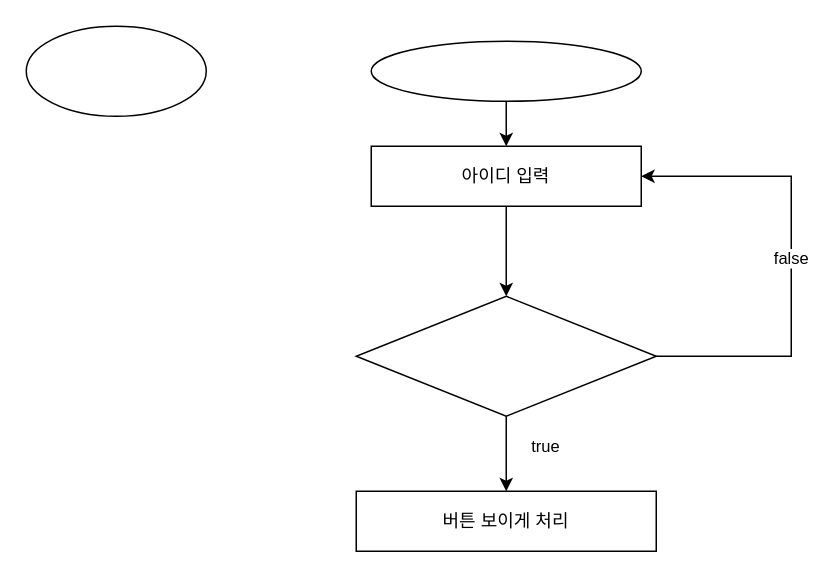
This 834x578 diagram has some shape labels left out. The shapes that lost their labels are listed below. From the top down, each one's centre as x and y in pixels, then its label:
At [505,70]: "창 오픈".
At [505,355]: "아이디가 알파벳소문자로 이루어졌는지?".
